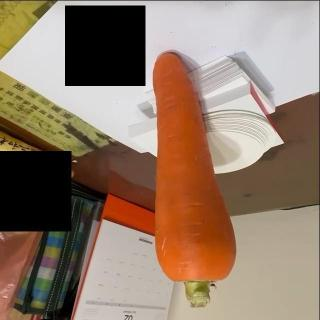carrot: (153, 50, 237, 308)
